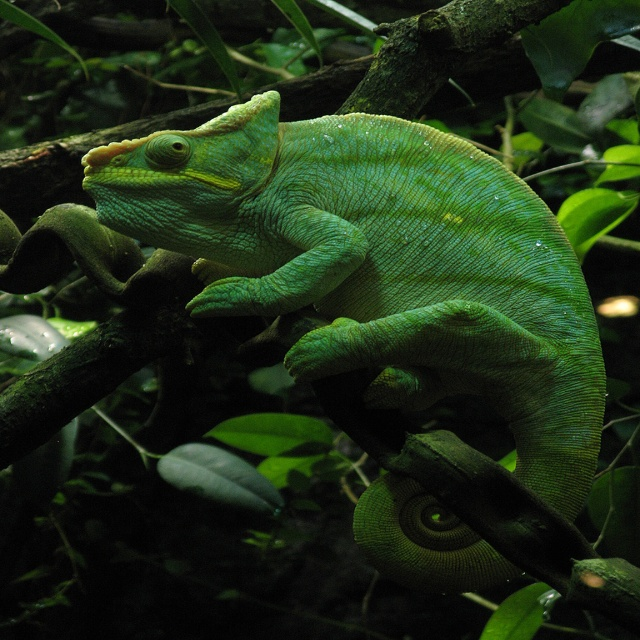Lizard: (82, 91, 606, 596)
